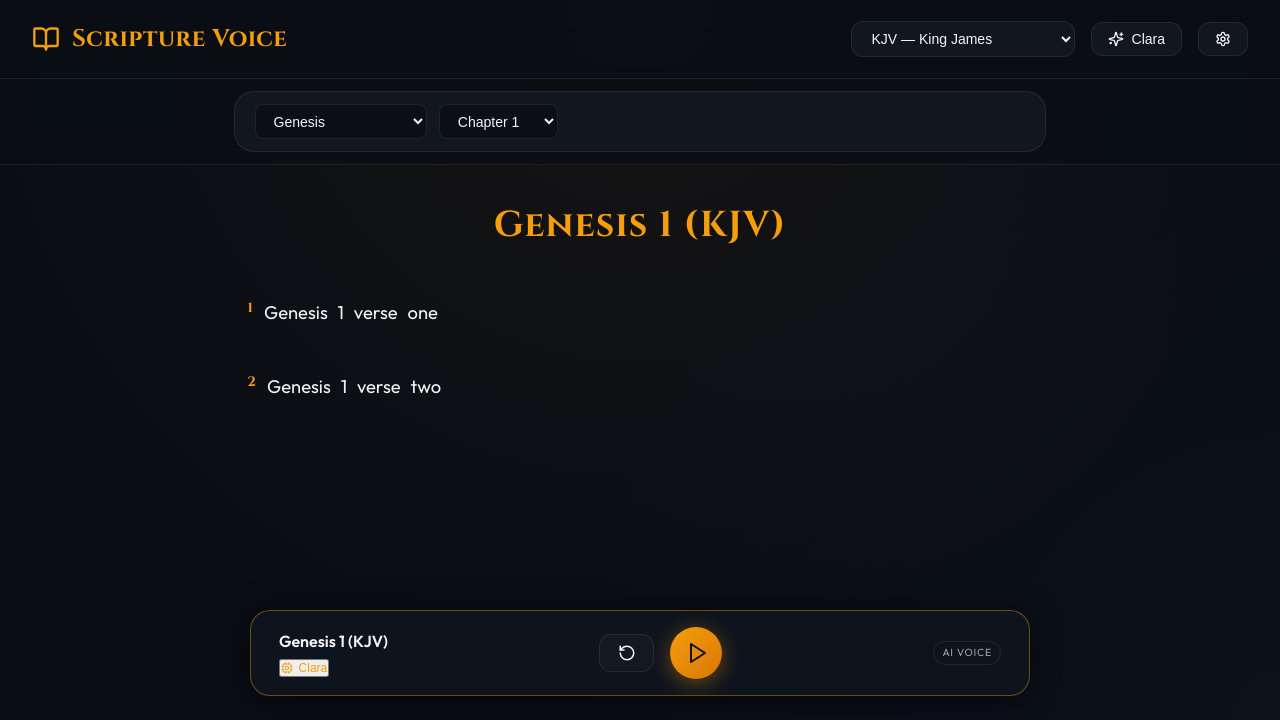
auto-advance › stops advancing when the next chapter fails to load
What coordinates should you click on to do the following:
click the button named "Play"
I would click on:
 (696, 653)
Its box is [670,627,722,679].
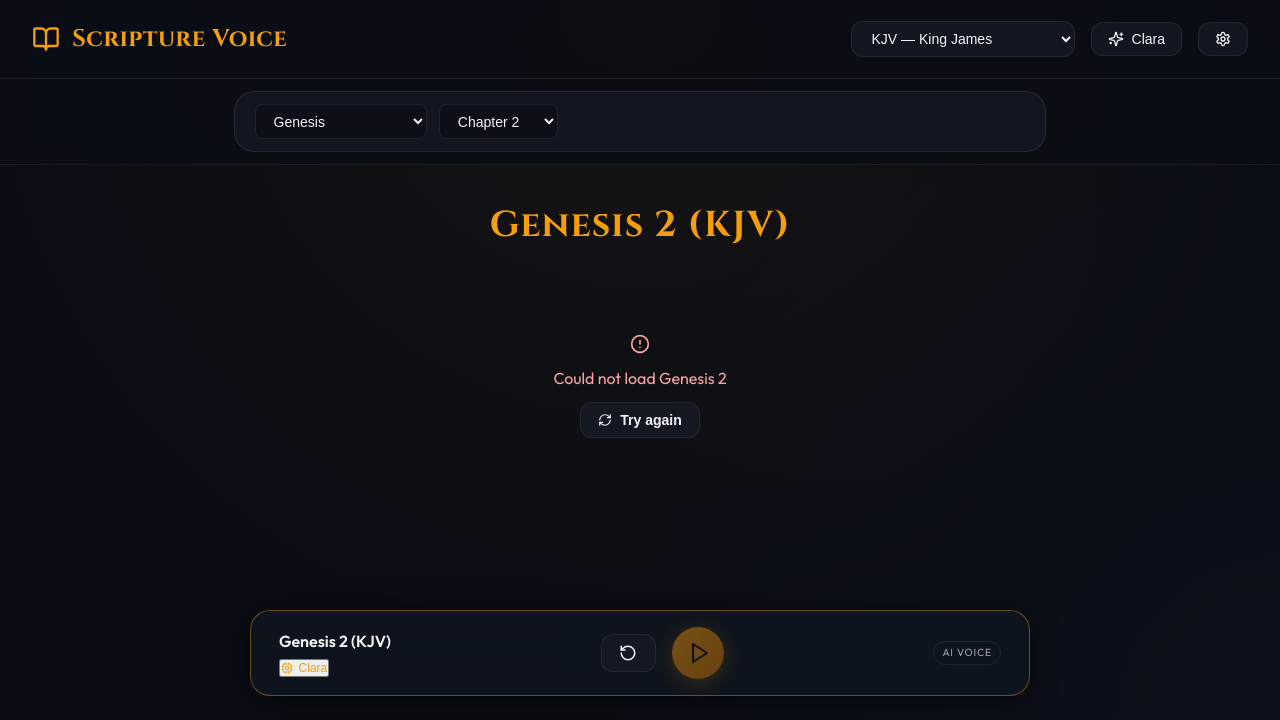
Expected: the message "Could not load Genesis 2 Try again" is shown, [553,334,726,438]
